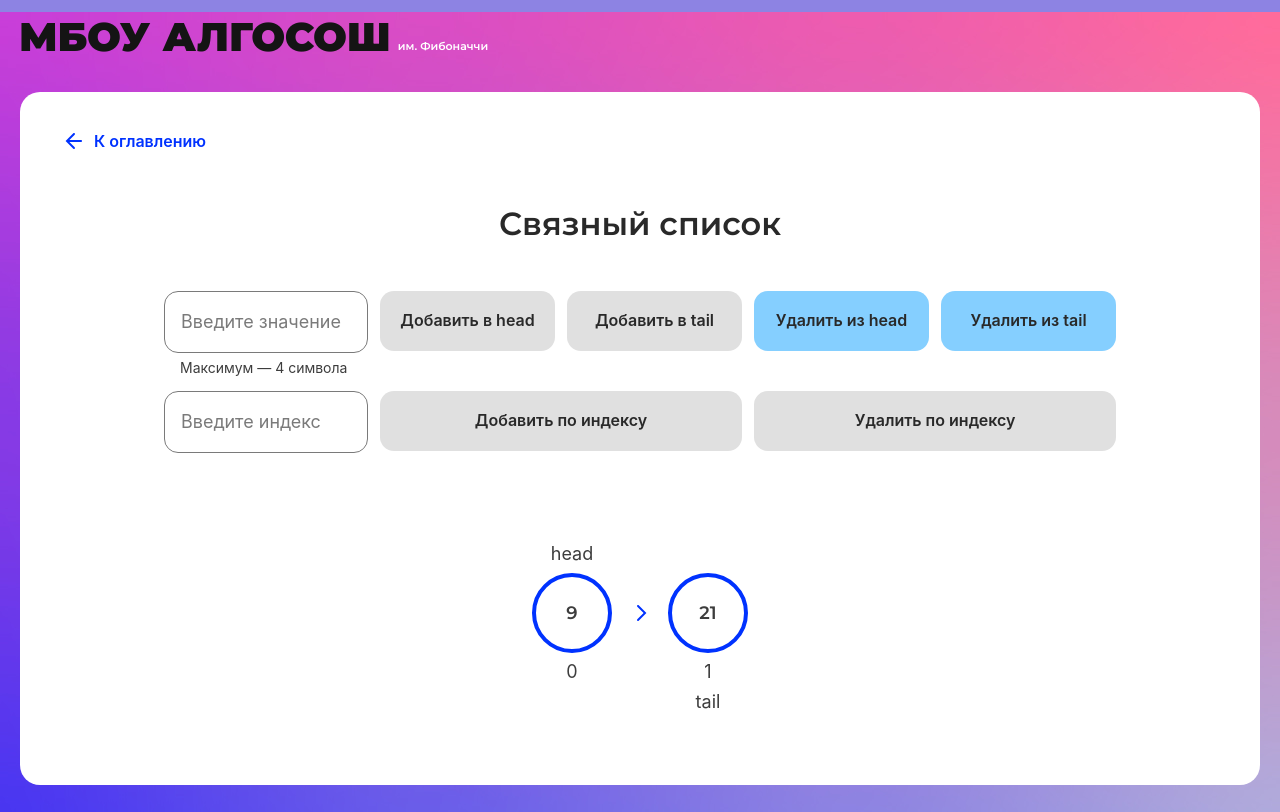
List tests › Add by index
Type "one" into the field with test id "valueInput". click: (266, 322)
box: [164, 291, 368, 353]
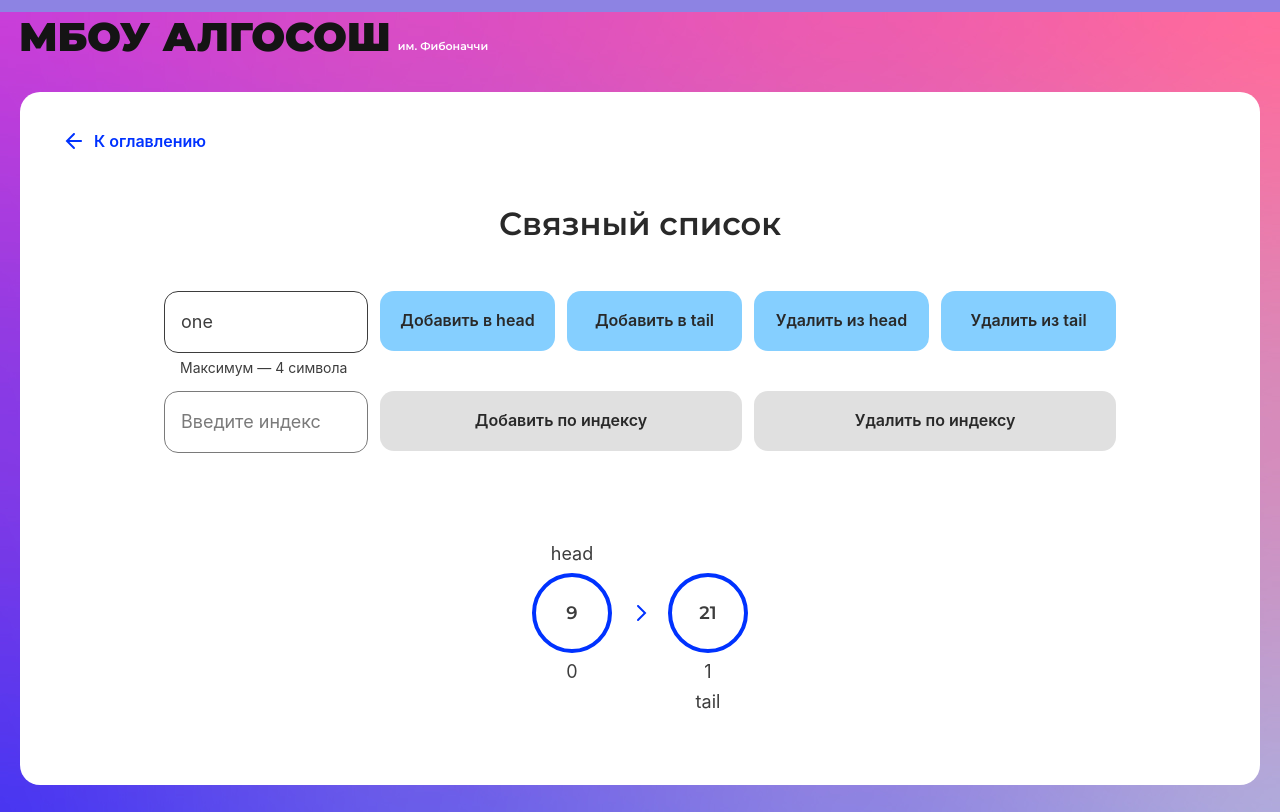
Type "1" into the number field with test id "indexInput". click: (266, 422)
box: [164, 391, 368, 453]
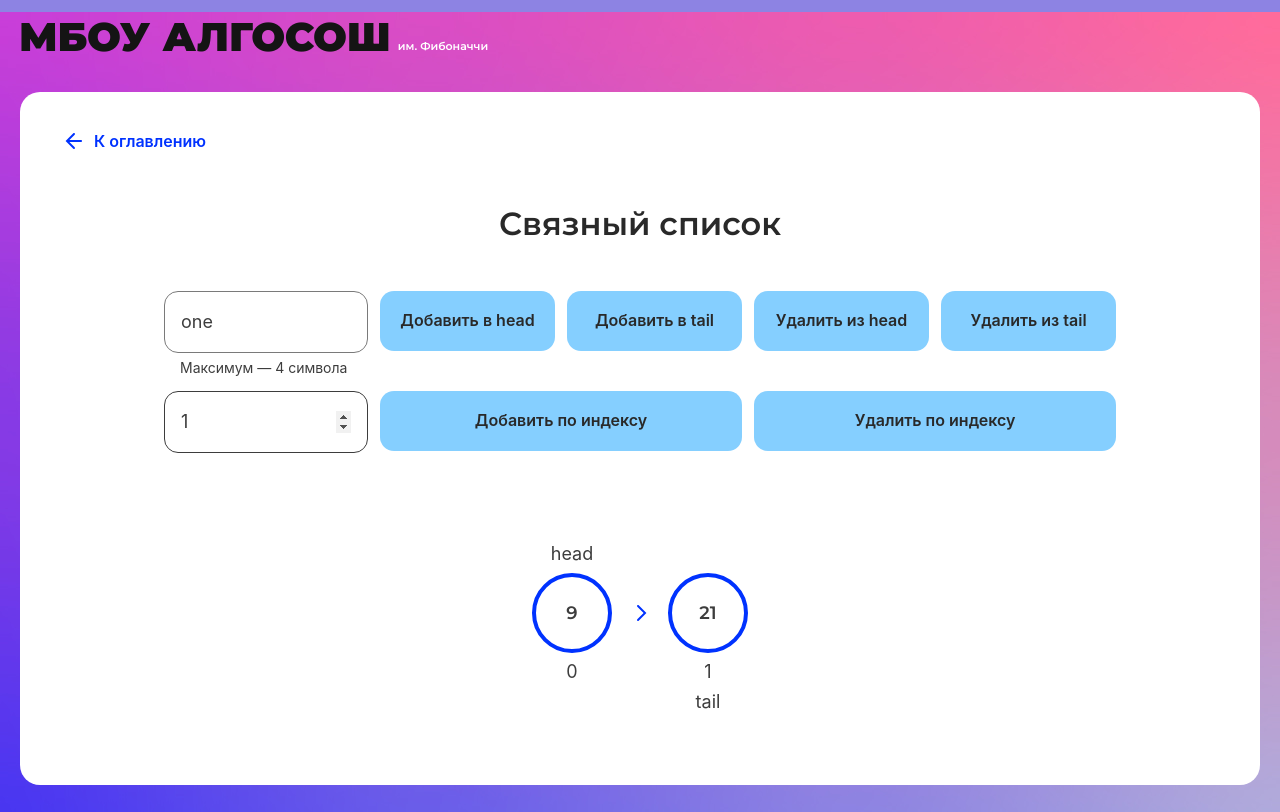
Click the button with test id "addByIndex". click: (561, 421)
box: [380, 391, 742, 451]
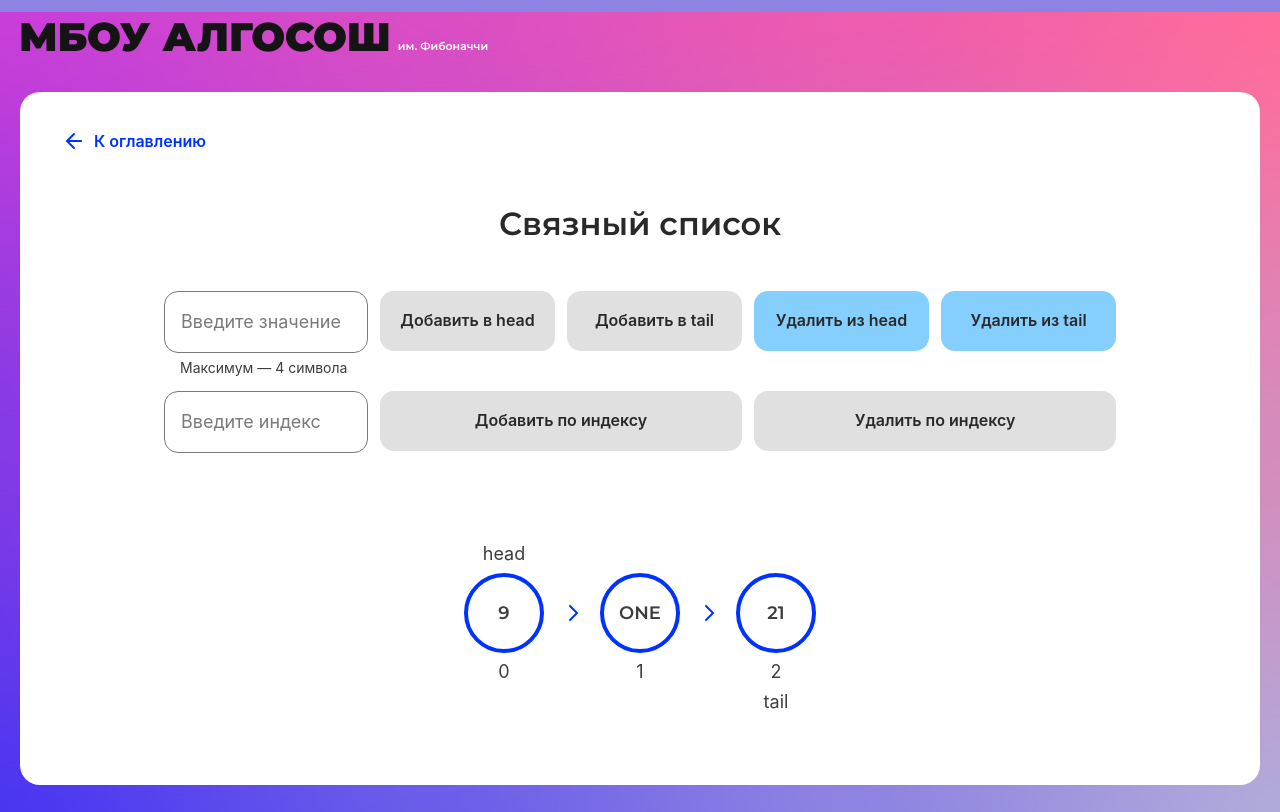
Expected: the button with test id "addToHead" is disabled, [380, 291, 555, 351]
Expected: the button with test id "addToTail" is disabled, [567, 291, 742, 351]
Expected: the button with test id "addByIndex" is disabled, [380, 391, 742, 451]
